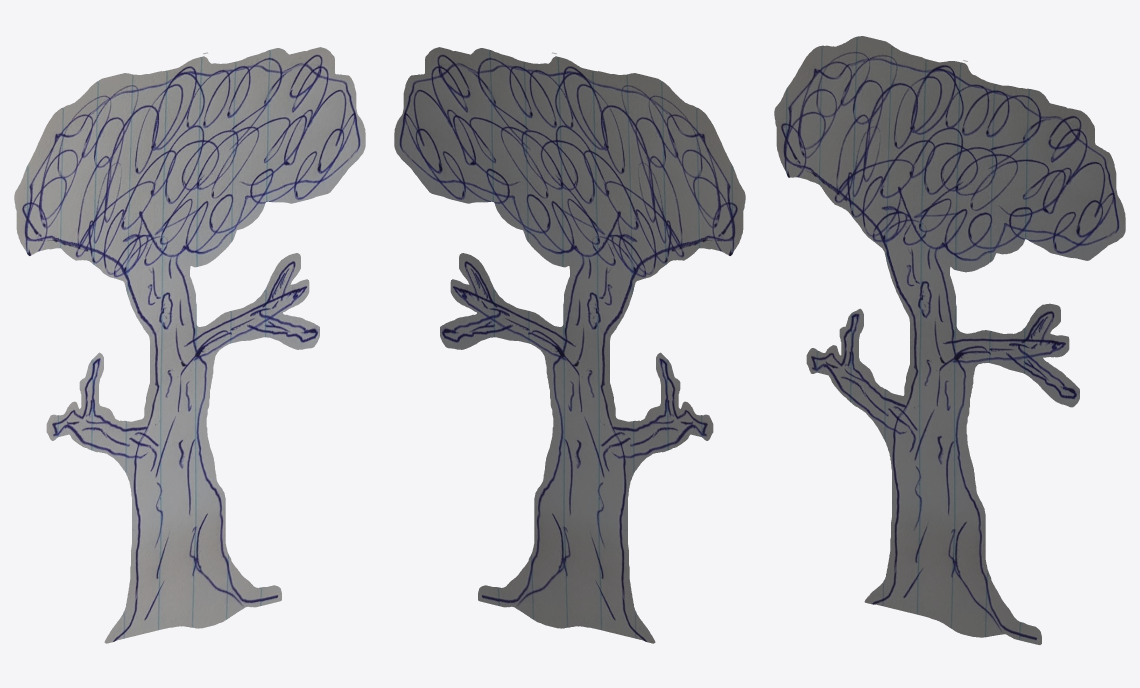
Rendered from boom2.fbx.
The picture shows the model from 3 angles, left to right: view 1: azimuth 30°, elevation 25°; view 2: azimuth 150°, elevation 25°; view 3: azimuth 330°, elevation 25°; orthographic projection.
Parts seen in each view (by area): view 1: Plane; view 2: Plane; view 3: Plane.
Part boxes in pixels (x1,y1,x2,y2): Plane: (14,47,365,643); Plane: (394,47,745,643); Plane: (774,36,1125,644).
Size of the model in its own units: 400 by 625 by 2.2.
1 material, 1 textured.
